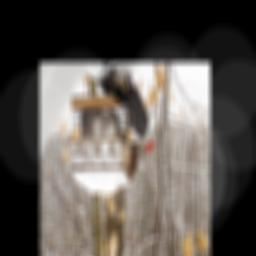Woodpecker: (102, 71, 156, 152)
